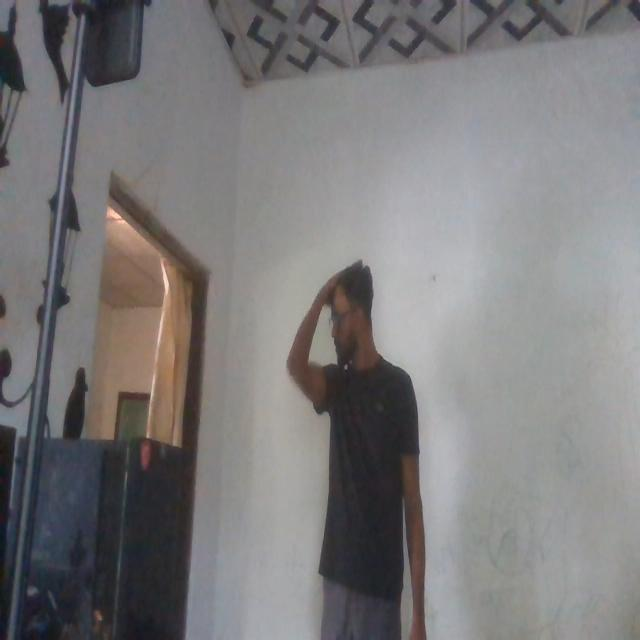Person: (290, 259, 425, 640)
